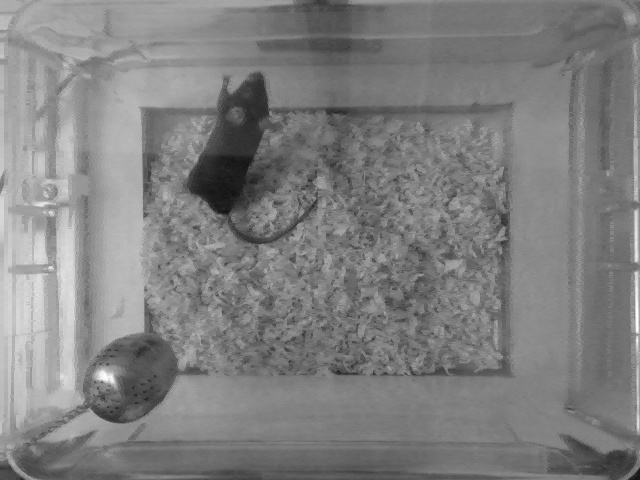mice: (185, 65, 322, 244)
